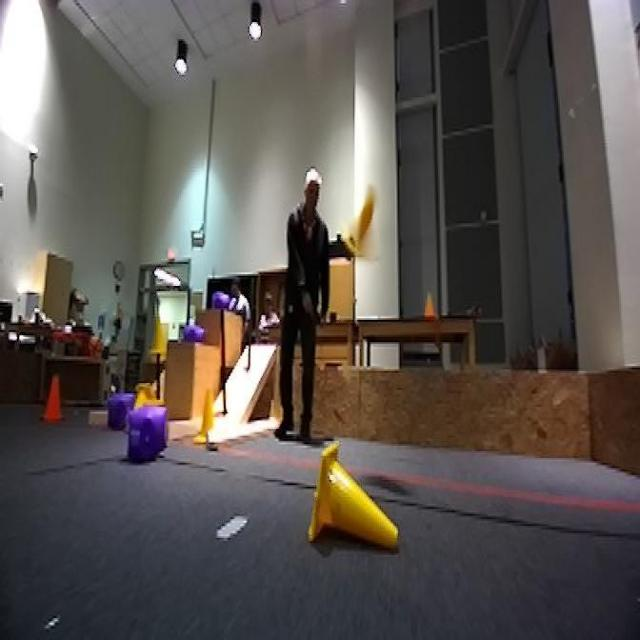frc_cone: (309, 442, 400, 544), (343, 182, 381, 262), (146, 304, 174, 362), (193, 384, 217, 442), (132, 378, 163, 408)
frc_cube: (130, 408, 167, 464), (103, 390, 137, 430), (177, 318, 208, 342), (210, 293, 232, 313)
